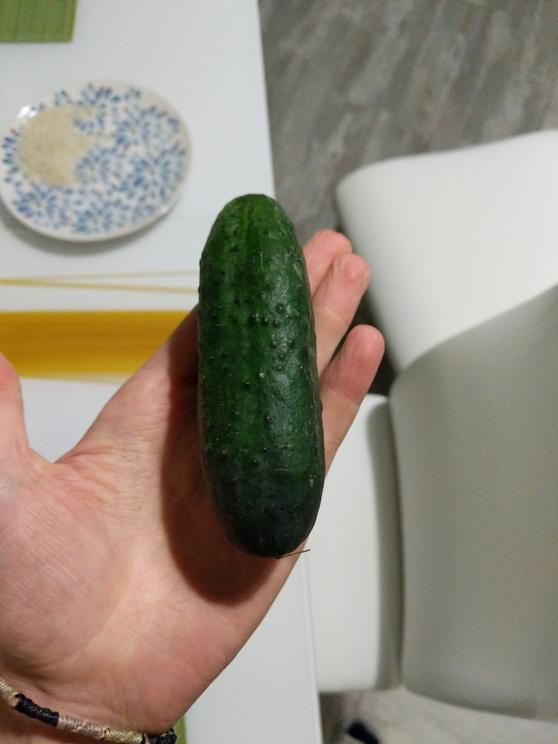cucumber: (179, 178, 336, 572)
rice: (17, 99, 107, 196)
